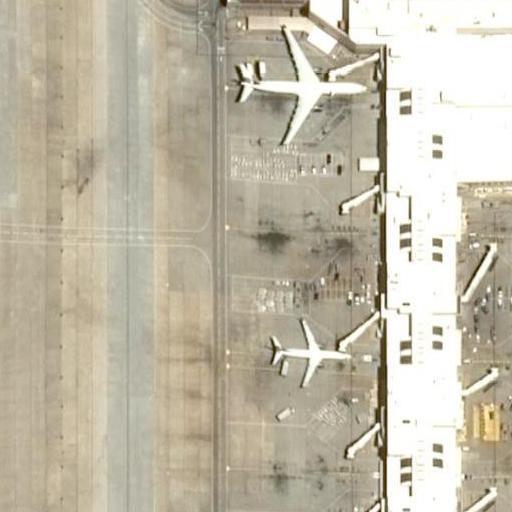Aircraft: (227, 22, 371, 150), (268, 316, 355, 391)
